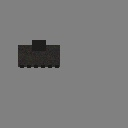armoured_vehicle: (18, 45, 60, 67)
